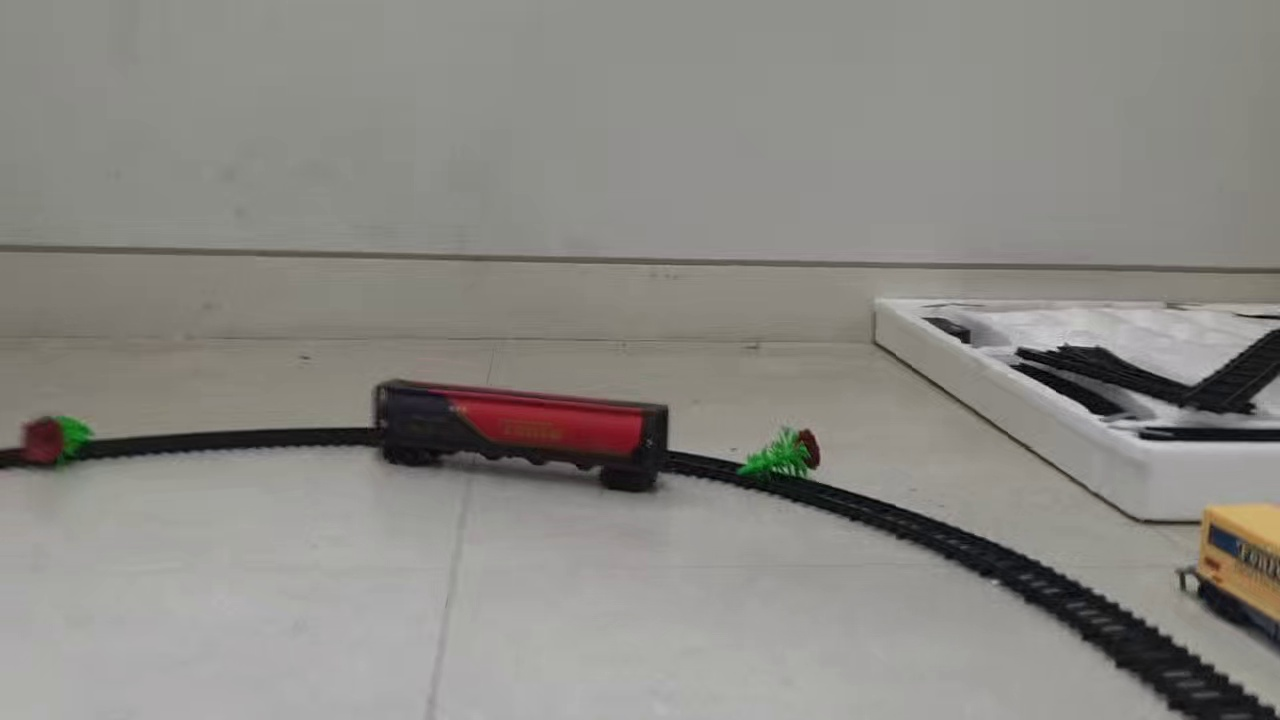tree: (727, 422, 825, 483), (15, 412, 95, 468)
